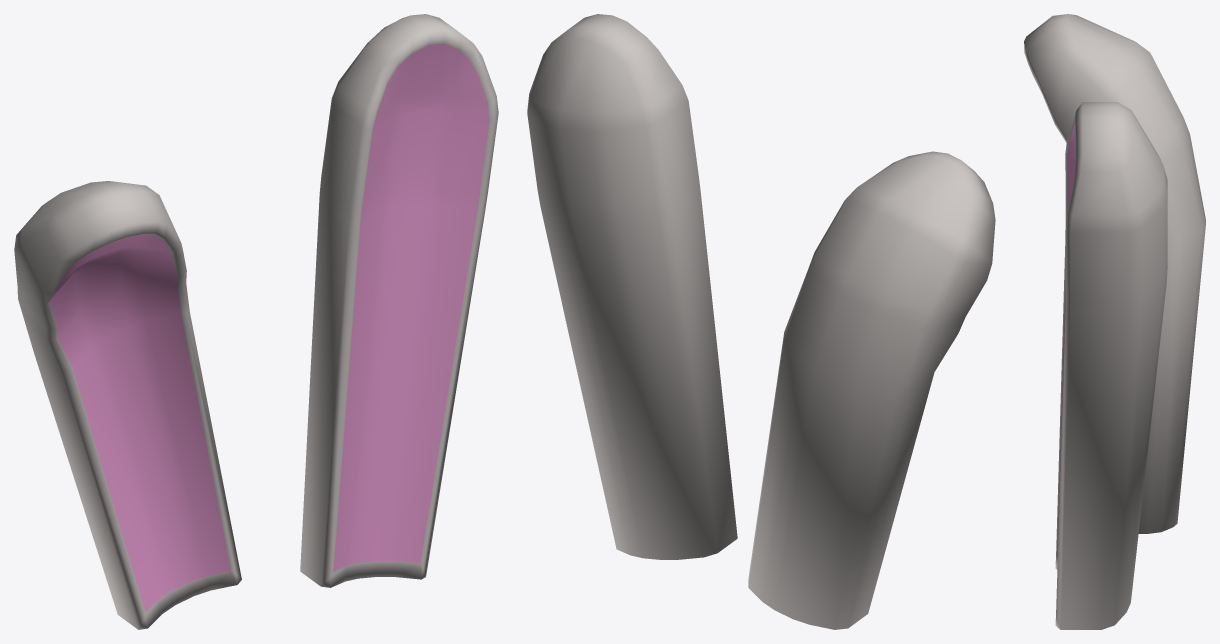
File: cokieBunnyEars.fbx
The picture shows the model from 3 angles, left to right: view 1: azimuth 30°, elevation 25°; view 2: azimuth 150°, elevation 25°; view 3: azimuth 270°, elevation 25°; orthographic projection. The views are drawn at different scales.
Parts seen in each view (by area): view 1: Bunny Ears; view 2: Bunny Ears; view 3: Bunny Ears.
Part boxes in pixels (x1,y1,x2,y2): Bunny Ears: [14, 14, 498, 629]; Bunny Ears: [527, 14, 995, 629]; Bunny Ears: [1024, 14, 1205, 629].
Bounding box in the file's own units: 109 × 38.33 × 125.
